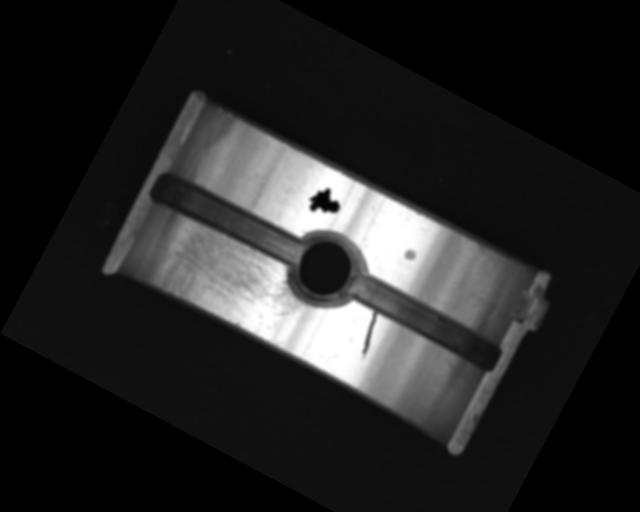blot: (304, 181, 347, 223)
bruise: (401, 246, 419, 263)
gap: (341, 266, 507, 377), (147, 165, 309, 274)
hole: (276, 219, 374, 319)
nick: (350, 309, 388, 362)
scratch: (144, 208, 317, 353)
